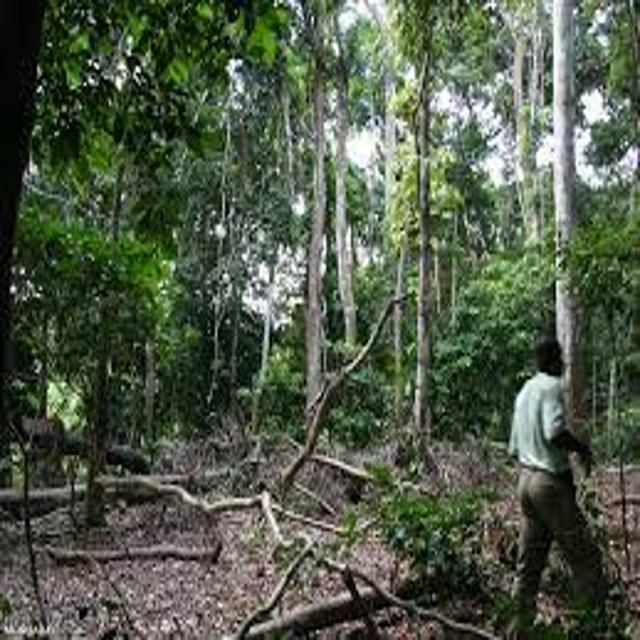poacher: (452, 318, 639, 640)
